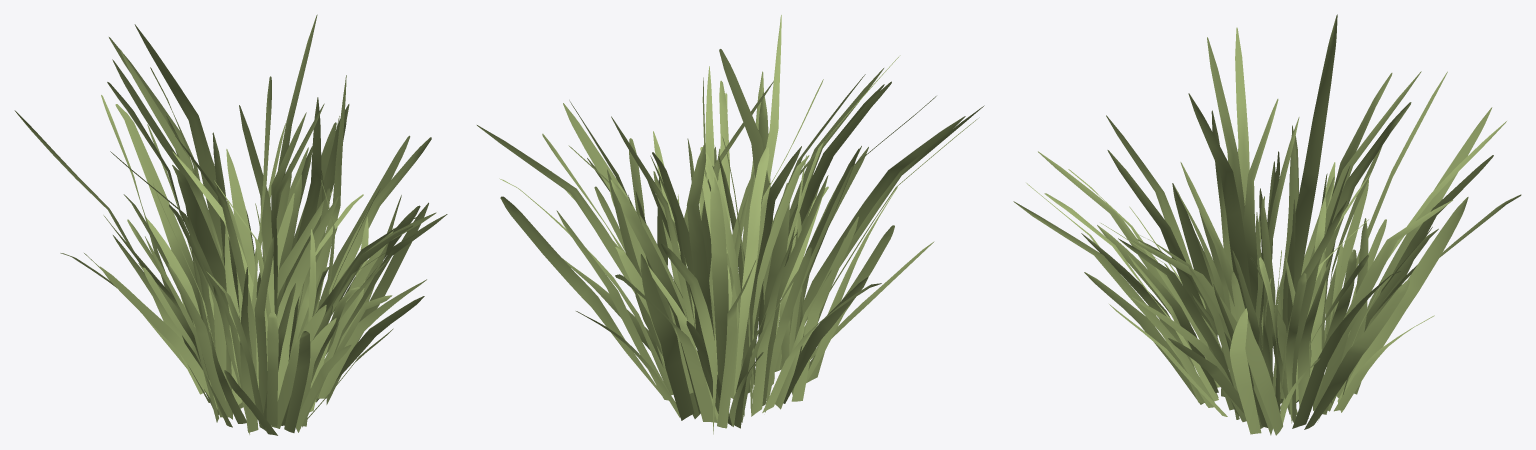
Rendered from Grass_UI.fbx.
The picture shows the model from 3 angles, left to right: view 1: azimuth 30°, elevation 25°; view 2: azimuth 150°, elevation 25°; view 3: azimuth 270°, elevation 25°; orthographic projection. The views are drawn at different scales.
Parts seen in each view (by area): view 1: Grass_UI; view 2: Grass_UI; view 3: Grass_UI.
Part boxes in pixels (left/top/right/bottom): Grass_UI: left=14, top=14, right=447, bottom=435; Grass_UI: left=477, top=15, right=984, bottom=434; Grass_UI: left=1013, top=14, right=1521, bottom=435.
Size of the model in its own units: 3.74 by 3.59 by 4.85.
